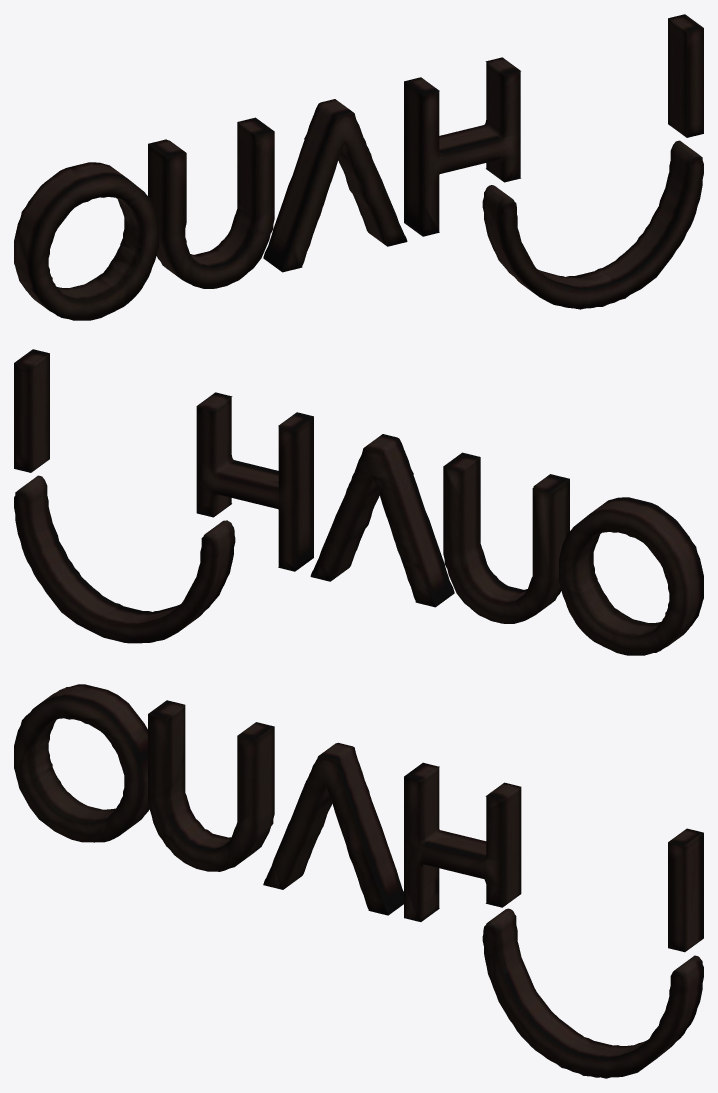
Rendered from obj-ouah.glb.
The picture shows the model from 3 angles, top to bottom: view 1: azimuth 30°, elevation 25°; view 2: azimuth 150°, elevation 25°; view 3: azimuth 330°, elevation 25°; orthographic projection.
Parts seen in each view (by area): view 1: tripo_node_a8e813ca-77c9-4f48-a75d-6f39214d13cf; view 2: tripo_node_a8e813ca-77c9-4f48-a75d-6f39214d13cf; view 3: tripo_node_a8e813ca-77c9-4f48-a75d-6f39214d13cf.
Part boxes in pixels (x1=…): tripo_node_a8e813ca-77c9-4f48-a75d-6f39214d13cf: x1=14, y1=14, x2=703, y2=320; tripo_node_a8e813ca-77c9-4f48-a75d-6f39214d13cf: x1=14, y1=349, x2=703, y2=655; tripo_node_a8e813ca-77c9-4f48-a75d-6f39214d13cf: x1=14, y1=684, x2=703, y2=1078.
Size of the model in its own units: 0.9768 by 0.3574 by 0.0497.
Materials: 1 (1 with a texture image).
